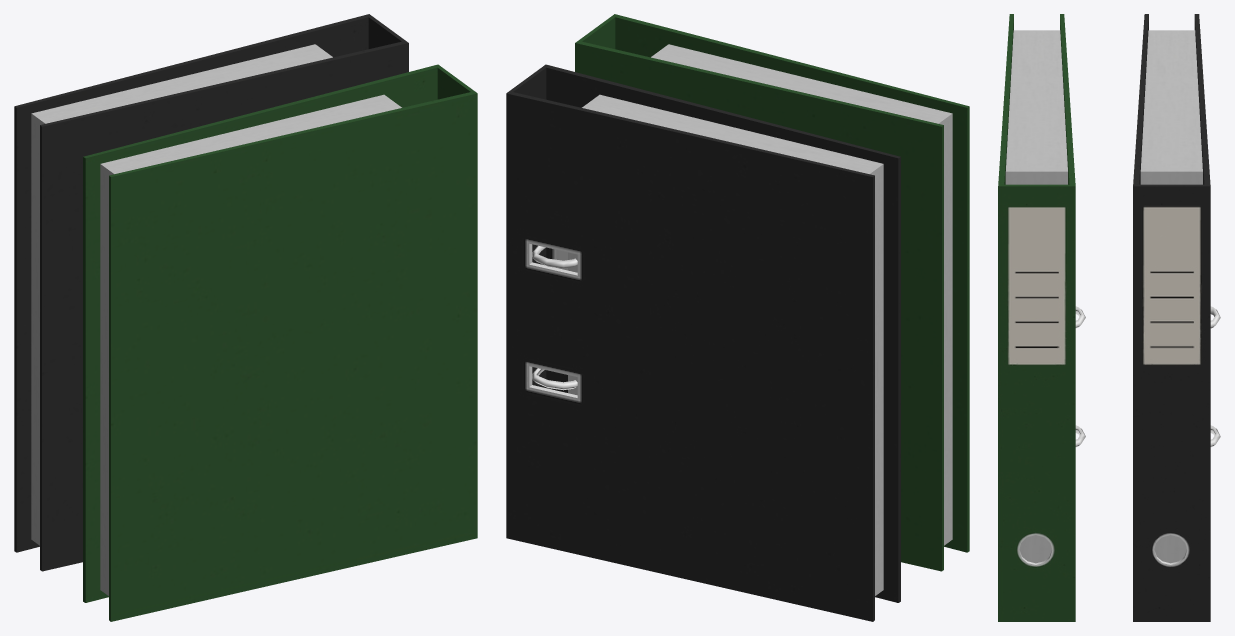
The model's file is folder.glb.
3 renders of one model, left to right at view 1: azimuth 30°, elevation 25°; view 2: azimuth 150°, elevation 25°; view 3: azimuth 270°, elevation 25°, orthographic. The views are drawn at different scales.
Parts seen in each view (by area): view 1: Folder_UV1, Folder_UV2; view 2: Folder_UV2, Folder_UV1; view 3: Folder_UV2, Folder_UV1.
Boxes of the visible parts, x1=… form: Folder_UV1: x1=83, y1=64, x2=477, y2=621; Folder_UV2: x1=14, y1=14, x2=408, y2=571; Folder_UV2: x1=506, y1=64, x2=900, y2=621; Folder_UV1: x1=575, y1=14, x2=969, y2=571; Folder_UV2: x1=1133, y1=14, x2=1220, y2=621; Folder_UV1: x1=998, y1=14, x2=1085, y2=621.
Size of the model in its own units: 0.2633 by 0.31 by 0.1437.
Materials: 1 (1 with a texture image).
